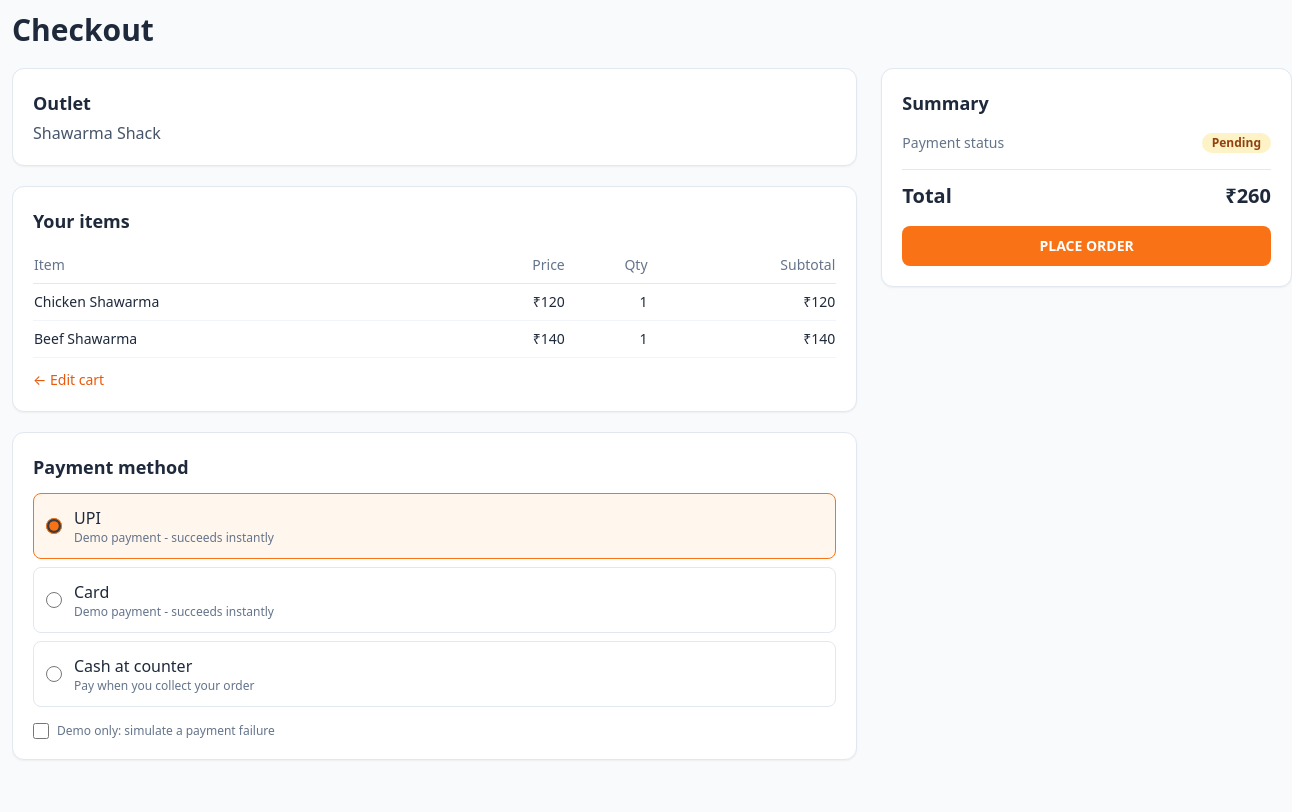
Test case: CheckoutPage › shows the error and stays on the page when payment fails
The width and height of the screenshot is (1292, 812).
Click the checkbox labelled "Demo only: simulate a payment failure".
click(41, 731)  # box left=33, top=723, right=49, bottom=739
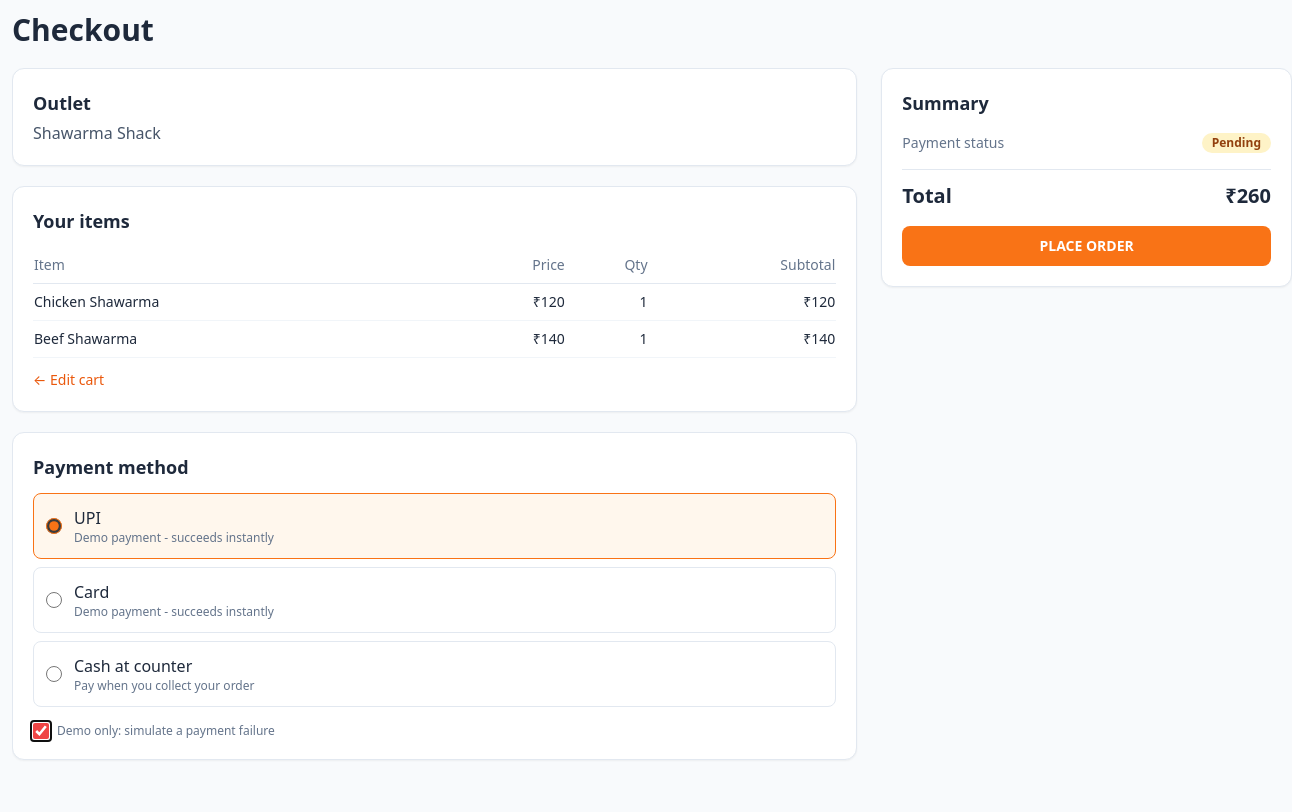
Click the button "PLACE ORDER".
click(1087, 246)  # box left=902, top=226, right=1271, bottom=266
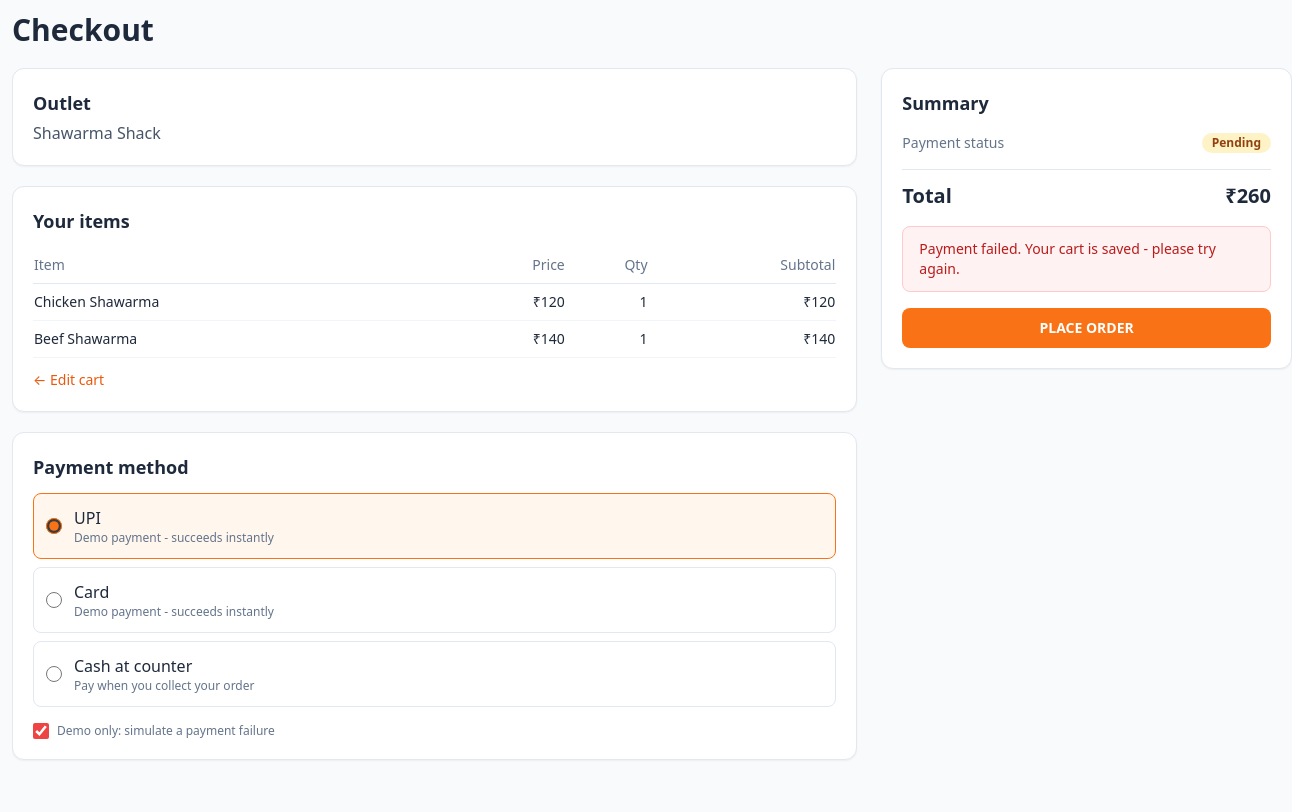
expect the message shows "Payment failed": met, box left=919, top=239, right=1216, bottom=278
